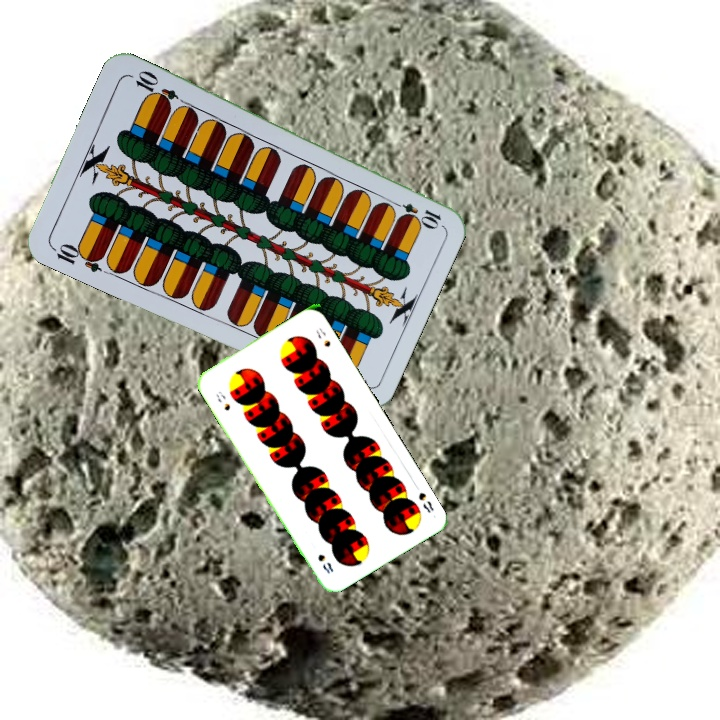E10: (48, 239, 106, 275), (386, 196, 444, 230)
S8: (414, 488, 436, 515), (211, 387, 233, 413)
